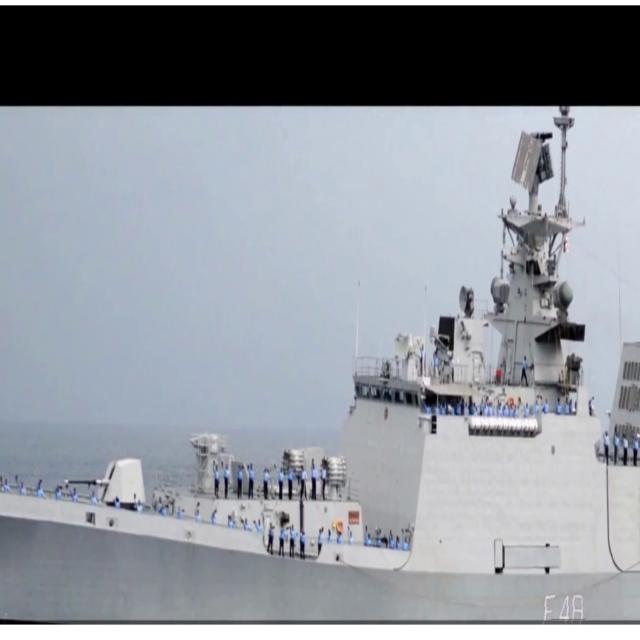OCR: (533, 584, 586, 621)
